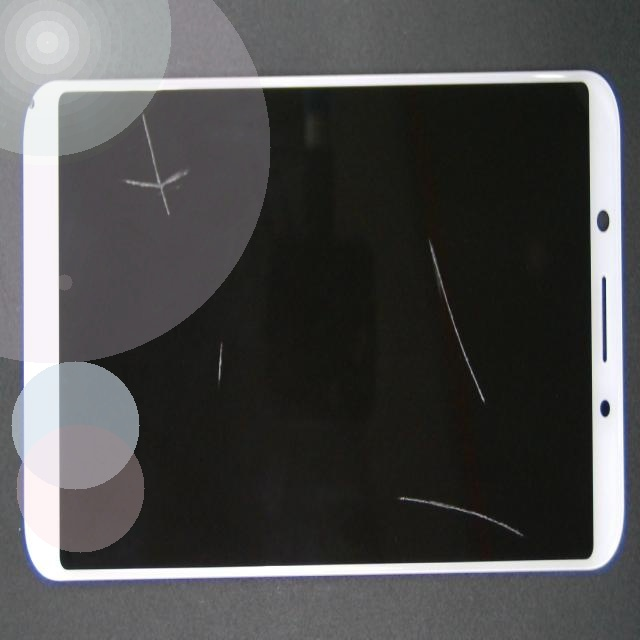scratch: (343, 303, 640, 640), (284, 282, 640, 500), (121, 123, 323, 489), (104, 189, 242, 301)
